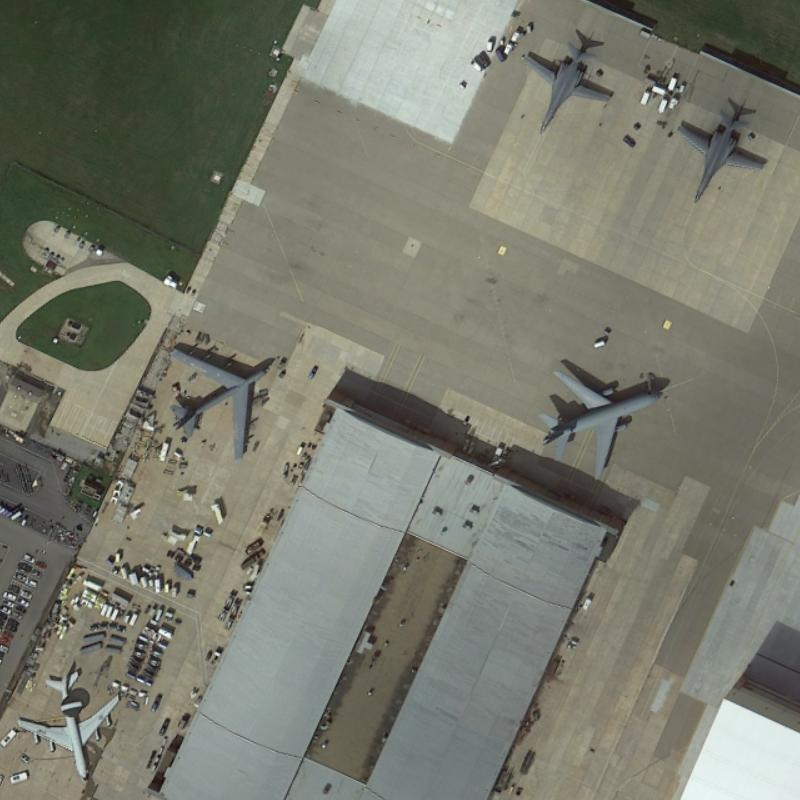A10: (668, 98, 770, 210), (520, 28, 623, 138)
A18: (536, 356, 666, 480)
A7: (13, 665, 124, 786)
A8: (157, 326, 287, 468)
